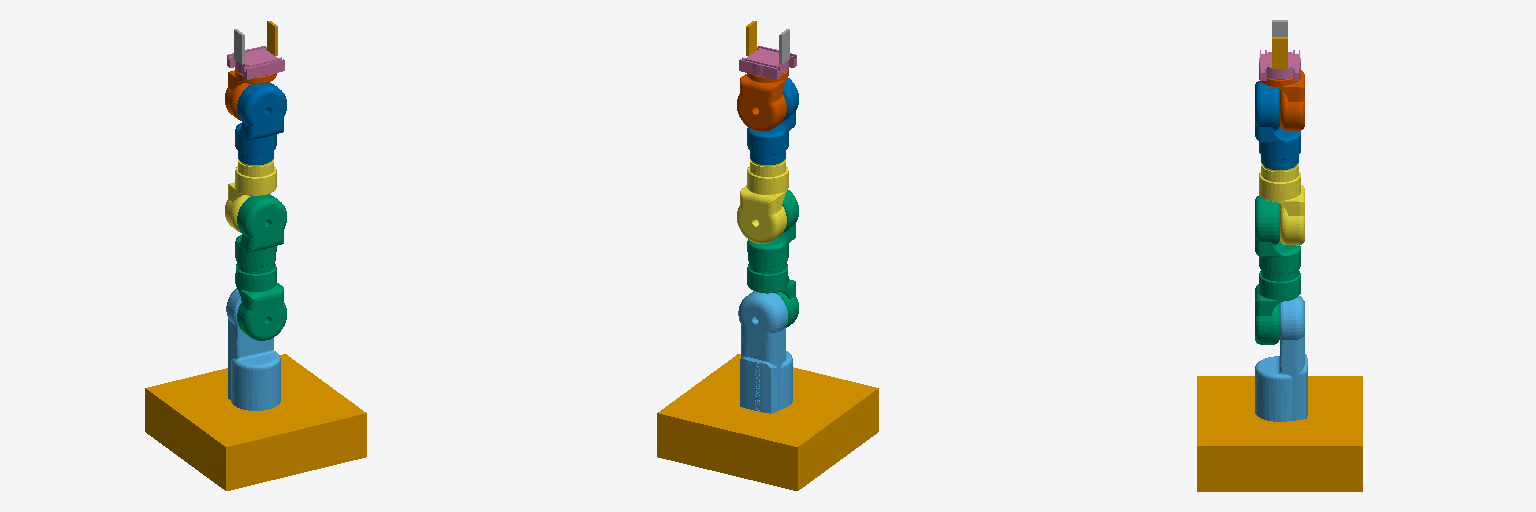
robot.urdf — six_dof_arm:
<?xml version="1.0" encoding="utf-8"?>

<!-- =================================================================================== -->
<!-- |    @uthor Min Htet Han ( ROM Robotics )                                         | -->
<!-- |    ROS Simulation Online Course                                                 | -->
<!-- =================================================================================== -->

<robot name="six_dof_arm">
  <link name="base_frame">
    <inertial>
      <mass value="359.99"/>
      <origin rpy="0 0 0" xyz="0 0 0"/>
      <inertia ixx="32.7" ixy="-7.3275e-15" ixz="-7.4508e-18" iyy="32.7" iyz="2.9965e-16" izz="60"/>
    </inertial>
    <collision>
      <origin rpy="0 0 0" xyz="0 0 0"/>
      <geometry>
        <box size="0.5 0.5 0.15"/>
      </geometry>
    </collision>
    <visual>
      <origin rpy="0 0 0" xyz="0 0 0"/>
      <geometry>
        <box size="0.5 0.5 0.15"/>
      </geometry>
    </visual>
  </link>
  <joint name="joint_one" type="revolute">
    <axis xyz="0 0 1"/>
    <limit effort="200" lower="-3.14" upper="3.14" velocity="0.2"/>
    <origin rpy="0 0 0" xyz="0 0 0.075"/>
    <parent link="base_frame"/>
    <child link="link_one"/>
  </joint>
  <transmission name="trans_joint_one">
    <type>transmission_interface/SimpleTransmission</type>
    <joint name="joint_one">
      <hardwareInterface>hardware_interface/EffortJointInterface</hardwareInterface>
    </joint>
    <actuator name="motor_joint_one">
      <hardwareInterface>hardware_interface/EffortJointInterface</hardwareInterface>
      <mechanicalReduction>1</mechanicalReduction>
    </actuator>
  </transmission>
  <link name="link_one">
    <inertial>
      <mass value="4.6167"/>
      <origin rpy="0 0 0" xyz="0 0 0"/>
      <inertia ixx="0.069637" ixy="-1.8435e-05" ixz="-1.1246e-05" iyy="0.069576" iyz="-0.0059016" izz="0.017056"/>
    </inertial>
    <collision>
      <origin rpy="0 0 0" xyz="0 0 0"/>
      <geometry>
        <mesh filename="package://urdf_tutorials/meshes/6dof/link_one.STL" scale="1 1 1"/>
      </geometry>
    </collision>
    <visual>
      <origin rpy="0 0 0" xyz="0 0 0"/>
      <geometry>
        <mesh filename="package://urdf_tutorials/meshes/6dof/link_one.STL" scale="1 1 1"/>
      </geometry>
      <material name="light_black"/>
    </visual>
  </link>
  <joint name="joint_two" type="revolute">
    <axis xyz="0 1 0"/>
    <limit effort="200" lower="-3.14" upper="3.14" velocity="0.2"/>
    <origin rpy="0 0 0" xyz="0 0 0.3048"/>
    <parent link="link_one"/>
    <child link="link_two"/>
  </joint>
  <transmission name="trans_joint_two">
    <type>transmission_interface/SimpleTransmission</type>
    <joint name="joint_two">
      <hardwareInterface>hardware_interface/EffortJointInterface</hardwareInterface>
    </joint>
    <actuator name="motor_joint_two">
      <hardwareInterface>hardware_interface/EffortJointInterface</hardwareInterface>
      <mechanicalReduction>1</mechanicalReduction>
    </actuator>
  </transmission>
  <link name="link_two">
    <inertial>
      <mass value="8.6679"/>
      <origin rpy="0 0 0" xyz="0 0 0"/>
      <inertia ixx="0.15166" ixy="3.6507e-08" ixz="-2.2357e-07" iyy="0.15385" iyz="1.0954e-07" izz="0.019839"/>
    </inertial>
    <collision>
      <origin rpy="0 0 0" xyz="0 0 0"/>
      <geometry>
        <mesh filename="package://urdf_tutorials/meshes/6dof/link_two.STL" scale="1 1 1"/>
      </geometry>
    </collision>
    <visual>
      <origin rpy="0 0 0" xyz="0 0 0"/>
      <geometry>
        <mesh filename="package://urdf_tutorials/meshes/6dof/link_two.STL" scale="1 1 1"/>
      </geometry>
      <material name="light_black"/>
    </visual>
  </link>
  <joint name="joint_three" type="revolute">
    <axis xyz="0 1 0"/>
    <limit effort="200" lower="-3.14" upper="3.14" velocity="0.2"/>
    <origin rpy="0 0 0" xyz="0 0 0.3302"/>
    <parent link="link_two"/>
    <child link="link_three"/>
  </joint>
  <transmission name="trans_joint_three">
    <type>transmission_interface/SimpleTransmission</type>
    <joint name="joint_three">
      <hardwareInterface>hardware_interface/EffortJointInterface</hardwareInterface>
    </joint>
    <actuator name="motor_joint_three">
      <hardwareInterface>hardware_interface/EffortJointInterface</hardwareInterface>
      <mechanicalReduction>1</mechanicalReduction>
    </actuator>
  </transmission>
  <link name="link_three">
    <inertial>
      <mass value="4.7843"/>
      <origin rpy="0 0 0" xyz="0 0 0"/>
      <inertia ixx="0.030521" ixy="1.0714e-09" ixz="-7.9633e-10" iyy="0.031396" iyz="0.005677" izz="0.010855"/>
    </inertial>
    <collision>
      <origin rpy="0 0 0" xyz="0 0 0"/>
      <geometry>
        <mesh filename="package://urdf_tutorials/meshes/6dof/link_three.STL" scale="1 1 1"/>
      </geometry>
    </collision>
    <visual>
      <origin rpy="0 0 0" xyz="0 0 0"/>
      <geometry>
        <mesh filename="package://urdf_tutorials/meshes/6dof/link_three.STL" scale="1 1 1"/>
      </geometry>
      <material name="light_black"/>
    </visual>
  </link>
  <joint name="joint_three_two" type="revolute">
    <axis xyz="0 0 1"/>
    <limit effort="200" lower="-3.14" upper="3.14" velocity="0.2"/>
    <origin rpy="0 0 0" xyz="0 0 0.1905"/>
    <parent link="link_three"/>
    <child link="link_three_two"/>
  </joint>
  <transmission name="trans_joint_three_two">
    <type>transmission_interface/SimpleTransmission</type>
    <joint name="joint_three_two">
      <hardwareInterface>hardware_interface/EffortJointInterface</hardwareInterface>
    </joint>
    <actuator name="motor_joint_three_two">
      <hardwareInterface>hardware_interface/EffortJointInterface</hardwareInterface>
      <mechanicalReduction>1</mechanicalReduction>
    </actuator>
  </transmission>
  <link name="link_three_two">
    <inertial>
      <mass value="4.7843"/>
      <origin rpy="0 0 0" xyz="0 0 0"/>
      <inertia ixx="0.030521" ixy="1.0714e-09" ixz="-7.9633e-10" iyy="0.031396" iyz="0.005677" izz="0.010855"/>
    </inertial>
    <collision>
      <origin rpy="0 0 0" xyz="0 0 0"/>
      <geometry>
        <mesh filename="package://urdf_tutorials/meshes/6dof/link_three_two.STL" scale="1 1 1"/>
      </geometry>
    </collision>
    <visual>
      <origin rpy="0 0 0" xyz="0 0 0"/>
      <geometry>
        <mesh filename="package://urdf_tutorials/meshes/6dof/link_three_two.STL" scale="1 1 1"/>
      </geometry>
      <material name="light_black"/>
    </visual>
  </link>
  <joint name="joint_four" type="revolute">
    <axis xyz="0 1 0"/>
    <limit effort="200" lower="-3.14" upper="3.14" velocity="0.2"/>
    <origin rpy="0 0 0" xyz="0 0 0.1905"/>
    <parent link="link_three_two"/>
    <child link="link_four"/>
  </joint>
  <transmission name="trans_joint_four">
    <type>transmission_interface/SimpleTransmission</type>
    <joint name="joint_four">
      <hardwareInterface>hardware_interface/EffortJointInterface</hardwareInterface>
    </joint>
    <actuator name="motor_joint_four">
      <hardwareInterface>hardware_interface/EffortJointInterface</hardwareInterface>
      <mechanicalReduction>1</mechanicalReduction>
    </actuator>
  </transmission>
  <link name="link_four">
    <inertial>
      <mass value="3.23"/>
      <origin rpy="0 0 0" xyz="0 0 0"/>
      <inertia ixx="0.011615" ixy="3.0049e-09" ixz="-2.3516e-09" iyy="0.013505" iyz="0.0016812" izz="0.0069931"/>
    </inertial>
    <collision>
      <origin rpy="0 0 0" xyz="0 0 0"/>
      <geometry>
        <mesh filename="package://urdf_tutorials/meshes/6dof/link_four.STL" scale="1 1 1"/>
      </geometry>
    </collision>
    <visual>
      <origin rpy="0 0 0" xyz="0 0 0"/>
      <geometry>
        <mesh filename="package://urdf_tutorials/meshes/6dof/link_four.STL" scale="1 1 1"/>
      </geometry>
      <material name="light_black"/>
    </visual>
  </link>
  <joint name="joint_five" type="revolute">
    <axis xyz="0 0 1"/>
    <limit effort="200" lower="-3.14" upper="3.14" velocity="0.2"/>
    <origin rpy="0 0 0" xyz="0 0 0.1143"/>
    <parent link="link_four"/>
    <child link="link_five"/>
  </joint>
  <transmission name="trans_joint_five">
    <type>transmission_interface/SimpleTransmission</type>
    <joint name="joint_five">
      <hardwareInterface>hardware_interface/EffortJointInterface</hardwareInterface>
    </joint>
    <actuator name="motor_joint_five">
      <hardwareInterface>hardware_interface/EffortJointInterface</hardwareInterface>
      <mechanicalReduction>1</mechanicalReduction>
    </actuator>
  </transmission>
  <link name="link_five">
    <inertial>
      <mass value="0.96751"/>
      <origin rpy="0 0 0" xyz="0 0 0"/>
      <inertia ixx="0.0012933" ixy="-1.7602e-11" ixz="-1.1137e-18" iyy="0.0013496" iyz="-1.4677e-18" izz="0.0024173"/>
    </inertial>
    <collision>
      <origin rpy="0 0 0" xyz="0 0 0"/>
      <geometry>
        <mesh filename="package://urdf_tutorials/meshes/6dof/link_five.STL" scale="1 1 1"/>
      </geometry>
    </collision>
    <visual>
      <origin rpy="0 0 0" xyz="0 0 0"/>
      <geometry>
        <mesh filename="package://urdf_tutorials/meshes/6dof/link_five.STL" scale="1 1 1"/>
      </geometry>
      <material name="light_black"/>
    </visual>
  </link>
  <joint name="gripper_one_joint" type="prismatic">
    <axis xyz="1 0 0"/>
    <limit effort="200" lower="0" upper="0.03" velocity="0.2"/>
    <origin rpy="0 0 0" xyz="-0.06 0 0.0881"/>
    <parent link="link_five"/>
    <child link="gripper_one"/>
  </joint>
  <transmission name="trans_gripper_one_joint">
    <type>transmission_interface/SimpleTransmission</type>
    <joint name="gripper_one_joint">
      <hardwareInterface>hardware_interface/EffortJointInterface</hardwareInterface>
    </joint>
    <actuator name="motor_gripper_one_joint">
      <hardwareInterface>hardware_interface/EffortJointInterface</hardwareInterface>
      <mechanicalReduction>1</mechanicalReduction>
    </actuator>
  </transmission>
  <link name="gripper_one">
    <inertial>
      <mass value="0.2"/>
      <origin rpy="0 0 0" xyz="0 0 0"/>
      <inertia ixx="0.0395416666667" ixy="0" ixz="0" iyy="0.106208333333" iyz="0" izz="0.106208333333"/>
    </inertial>
    <collision>
      <origin rpy="0 0 0" xyz="0 0 0"/>
      <geometry>
        <box size="0.01 0.05 0.1"/>
      </geometry>
    </collision>
    <visual>
      <origin rpy="0 0 0" xyz="0 0 0"/>
      <geometry>
        <box size="0.01 0.05 0.1"/>
      </geometry>
    </visual>
  </link>
  <joint name="gripper_two_joint" type="prismatic">
    <axis xyz="-1 0 0"/>
    <limit effort="200" lower="0" upper="0.03" velocity="0.2"/>
    <origin rpy="0 0 0" xyz="0.06 0 0.0881"/>
    <parent link="link_five"/>
    <child link="gripper_two"/>
  </joint>
  <transmission name="trans_gripper_two_joint">
    <type>transmission_interface/SimpleTransmission</type>
    <joint name="gripper_two_joint">
      <hardwareInterface>hardware_interface/EffortJointInterface</hardwareInterface>
    </joint>
    <actuator name="motor_gripper_two_joint">
      <hardwareInterface>hardware_interface/EffortJointInterface</hardwareInterface>
      <mechanicalReduction>1</mechanicalReduction>
    </actuator>
  </transmission>
  <link name="gripper_two">
    <inertial>
      <mass value="0.2"/>
      <origin rpy="0 0 0" xyz="0 0 0"/>
      <inertia ixx="0.0395416666667" ixy="0" ixz="0" iyy="0.106208333333" iyz="0" izz="0.106208333333"/>
    </inertial>
    <collision>
      <origin rpy="0 0 0" xyz="0 0 0"/>
      <geometry>
        <box size="0.01 0.05 0.1"/>
      </geometry>
    </collision>
    <visual>
      <origin rpy="0 0 0" xyz="0 0 0"/>
      <geometry>
        <box size="0.01 0.05 0.1"/>
      </geometry>
    </visual>
  </link>
  <gazebo>
    <plugin filename="libgazebo_ros_control.so" name="gazebo_ros_control">
      <robotNamespace>/six_dof_arm</robotNamespace>
    </plugin>
  </gazebo>
</robot>

--- Facts derived from the render (not from the file) ---
3 views of the same robot in one strip: view 1: azimuth 30°, elevation 25°; view 2: azimuth 150°, elevation 25°; view 3: azimuth 270°, elevation 25° (orthographic).
Model six_dof_arm with 9 links and 8 joints (6 revolute, 2 prismatic), rooted at base_frame, posed every joint at zero.
Visible links, largest first — view 1: base_frame, link_two, link_one, link_three_two, link_three, link_five, link_four; view 2: base_frame, link_one, link_three, link_two, link_four, link_three_two, link_five; view 3: base_frame, link_one, link_two, link_three_two, link_three, link_four, link_five.
Boxes of the visible links, x1,y1,x2,y2 form: base_frame: (145,354,366,490); link_two: (235,194,286,340); link_one: (226,288,280,410); link_three_two: (235,82,286,164); link_three: (225,159,276,232); link_five: (227,46,284,79); link_four: (225,68,276,120); base_frame: (657,354,878,490); link_one: (738,291,792,413); link_three: (737,159,788,243); link_two: (747,190,798,327); link_four: (737,68,788,131); link_three_two: (747,78,798,164); link_five: (739,46,796,79); base_frame: (1197,376,1362,491); link_one: (1255,296,1307,421); link_two: (1255,195,1300,344); link_three_two: (1255,81,1300,169); link_three: (1259,163,1304,245); link_four: (1259,70,1304,130); link_five: (1259,50,1300,80).
Size in the robot's own frame: 0.5 by 0.5 by 1.42 metres.
6 mesh visuals loaded from 6 distinct referenced files (6 binary STL).
